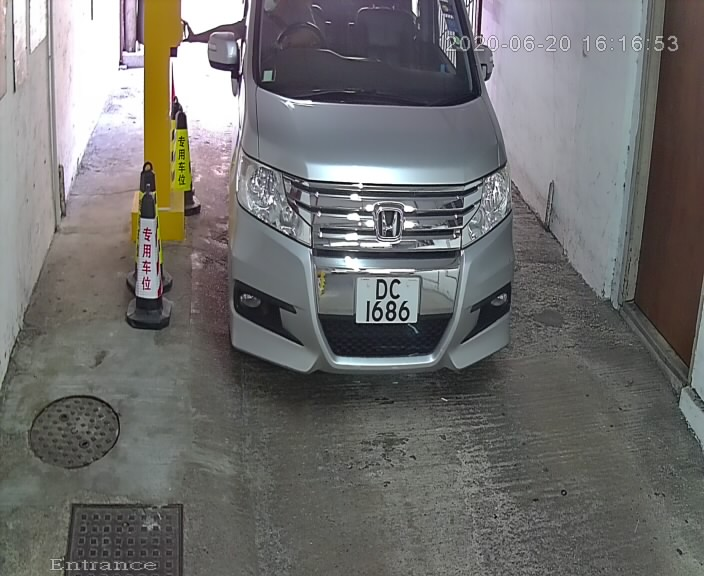privatecar: (192, 2, 535, 391)
